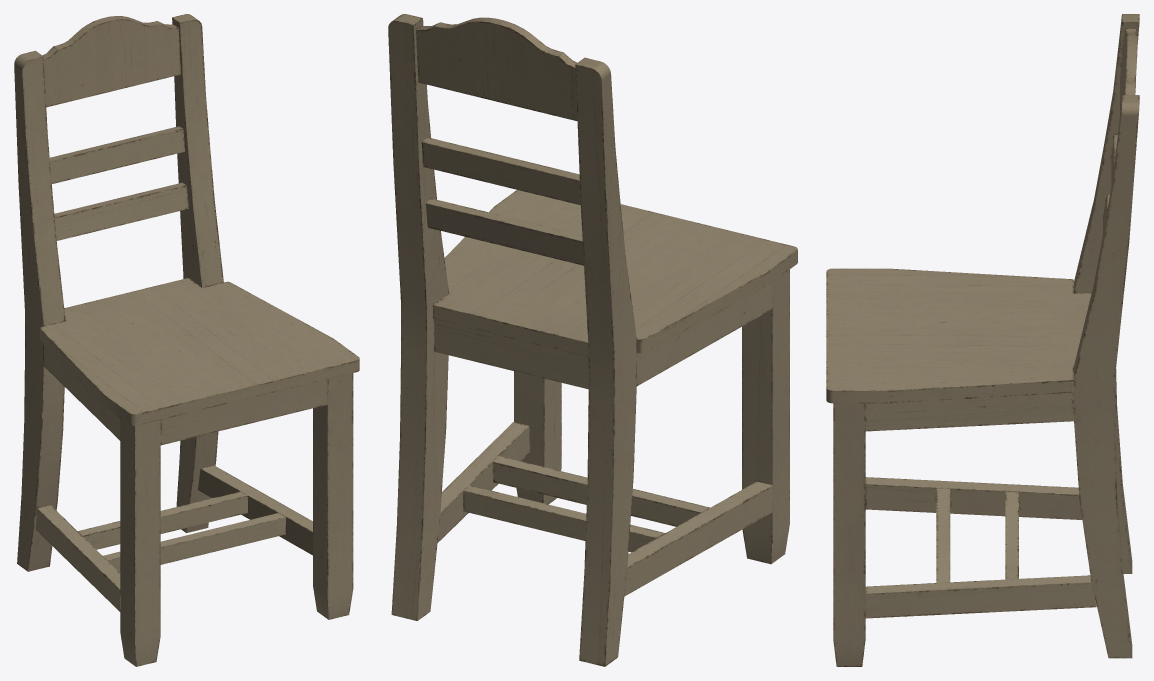
Rendered from example74.gltf.
3 views of the same model, side by side, from view 1: azimuth 30°, elevation 25°; view 2: azimuth 150°, elevation 25°; view 3: azimuth 270°, elevation 25° (orthographic). The views are drawn at different scales.
Bounding box in the file's own units: 42.1 × 91.48 × 45.53.
1 material, 1 textured.
